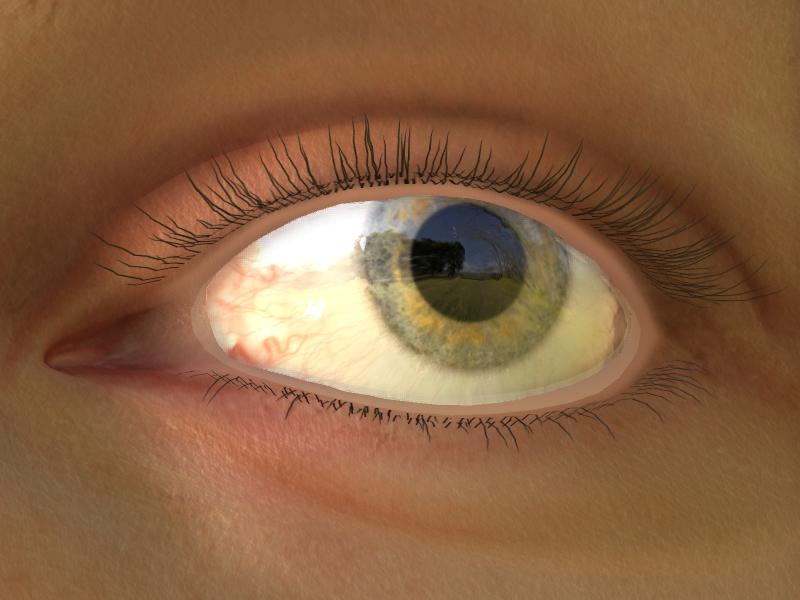eye: (365, 194, 567, 365)
